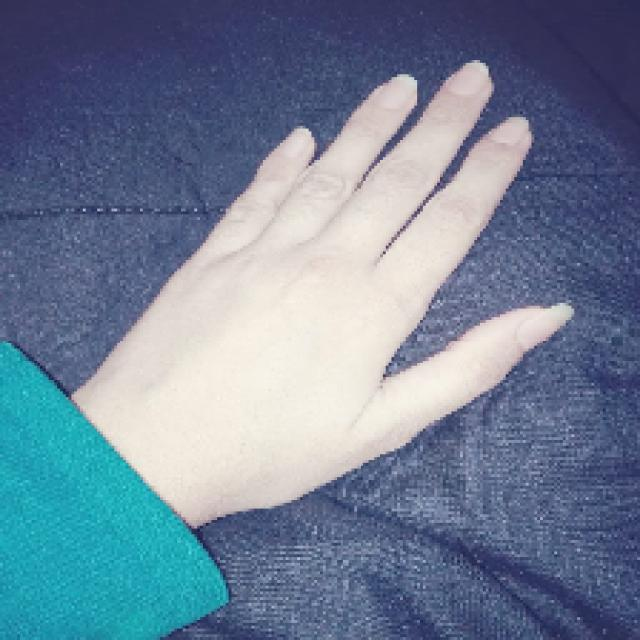Nail: (516, 302, 574, 350), (448, 61, 490, 96), (378, 75, 416, 108), (492, 118, 529, 143), (281, 128, 311, 157)
